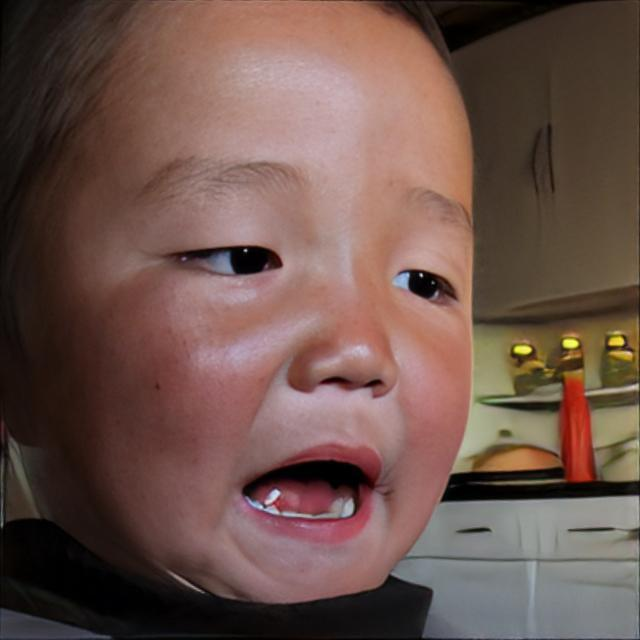fear: (46, 21, 496, 614)
